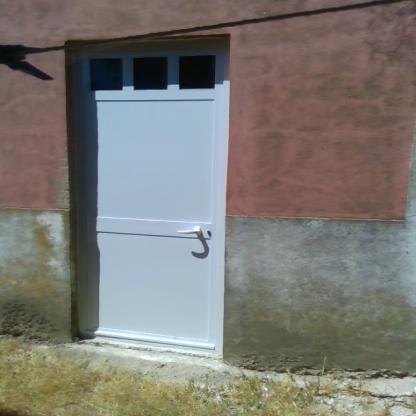door: (75, 50, 217, 361)
lever: (172, 227, 204, 235)
